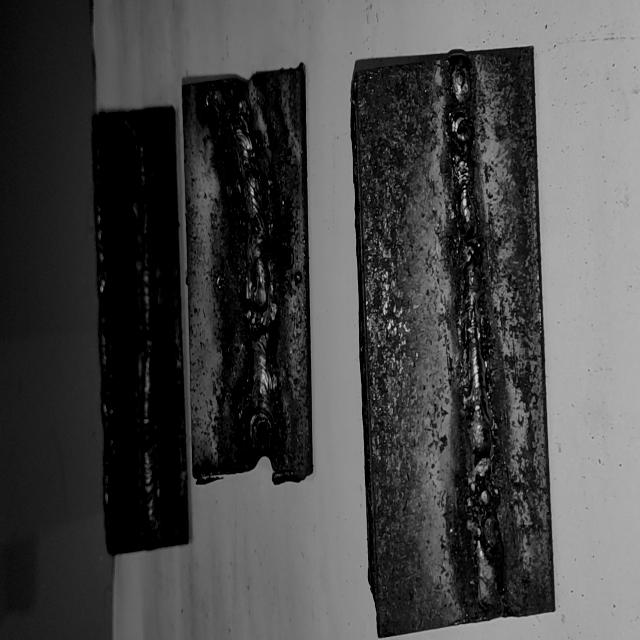Bad Weld: (447, 61, 502, 606), (240, 106, 276, 454)
Defect: (438, 58, 506, 590), (232, 276, 283, 350), (207, 84, 269, 144)
Good Weld: (134, 137, 161, 532)
